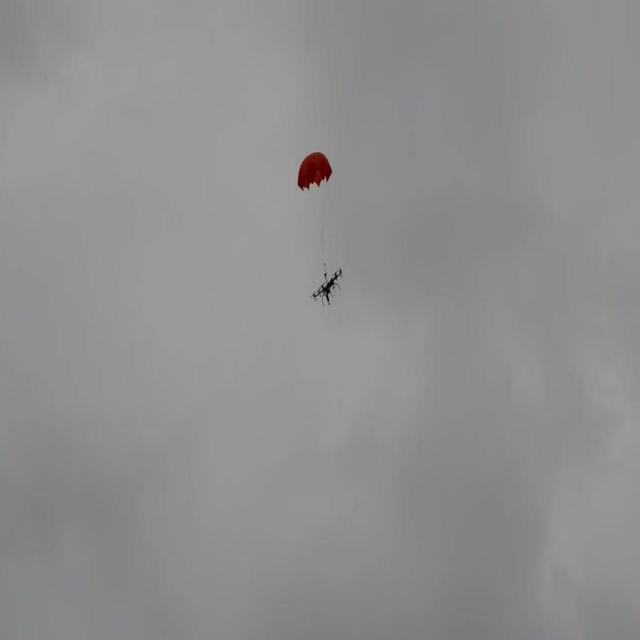UAV: (310, 263, 342, 308)
